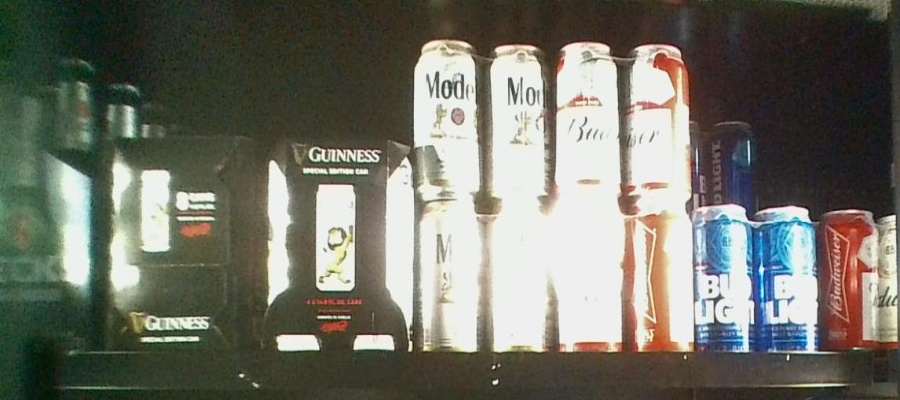bottle: (553, 37, 692, 353), (414, 39, 552, 352), (260, 133, 413, 355), (103, 138, 255, 354), (693, 200, 819, 352)
